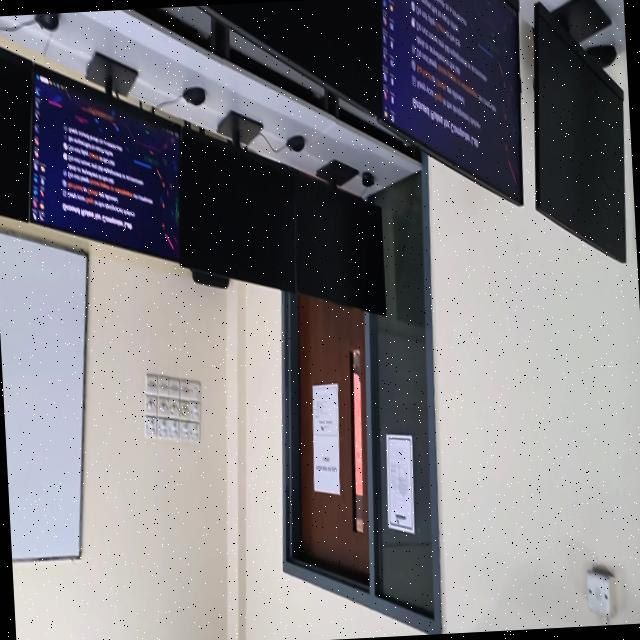Chair: (192, 269, 229, 289)
Keyboard: (229, 49, 324, 108), (338, 108, 420, 162), (132, 8, 209, 48)
Monitor: (30, 65, 180, 261), (380, 0, 522, 205), (533, 0, 625, 263), (200, 0, 382, 117), (178, 123, 296, 292), (295, 161, 386, 314), (0, 48, 34, 222)
Mouse: (587, 45, 617, 68), (35, 13, 59, 32), (182, 88, 206, 106), (286, 136, 305, 152), (362, 172, 374, 188)
